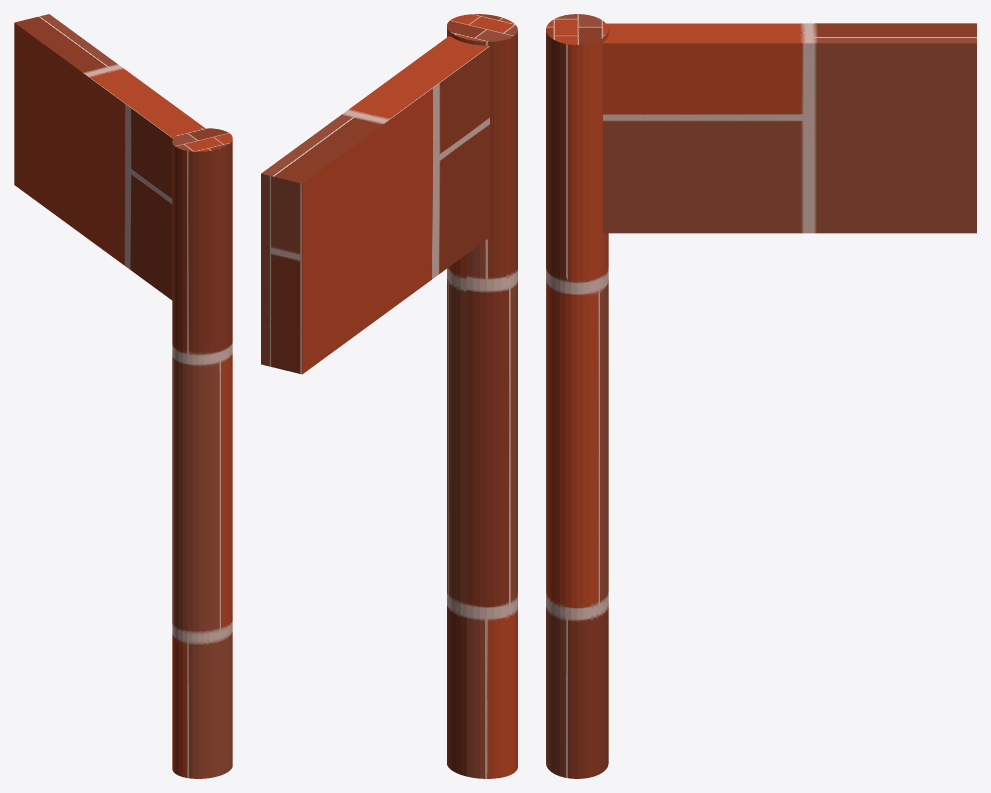
File: goal.obj
3 views of the same model, side by side, from view 1: azimuth 30°, elevation 25°; view 2: azimuth 150°, elevation 25°; view 3: azimuth 270°, elevation 25° (orthographic). The views are drawn at different scales.
Visible parts, largest first — view 1: 立方体; view 2: 立方体; view 3: 立方体.
Boxes of the visible parts, x1,y1,x2,y2 form: 立方体: (14,14,232,778); 立方体: (261,14,517,778); 立方体: (546,14,976,778).
Size of the model in its own units: 0.393 by 4.33 by 2.3.
1 material, 1 textured.
